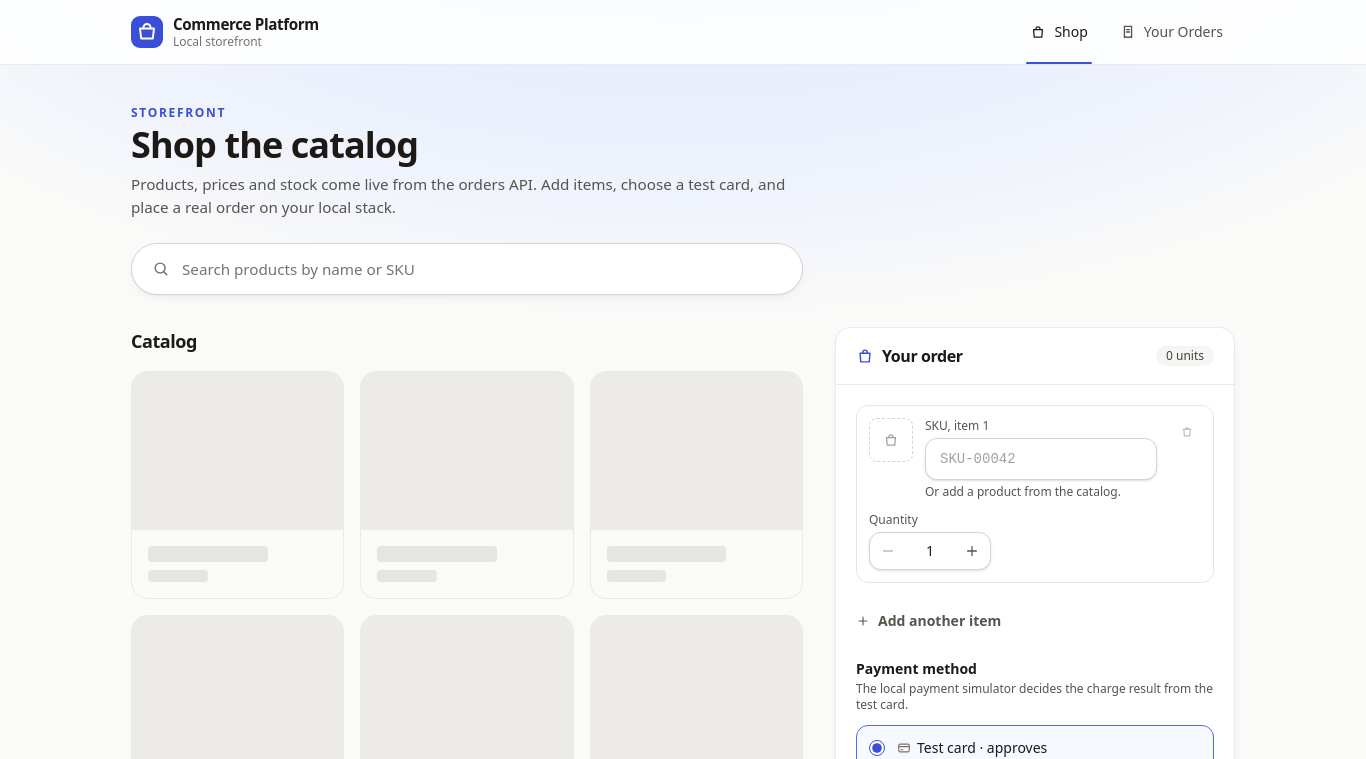
Test: product search: completeness and loading › reads every catalog page once by cursor, without duplicates, before claiming full coverage
This screenshot has width=1366, height=759.
Type "lunar" into the dropdown labelled "Search products".
click(482, 269); type("lunar")  # box [182,244,782,294]
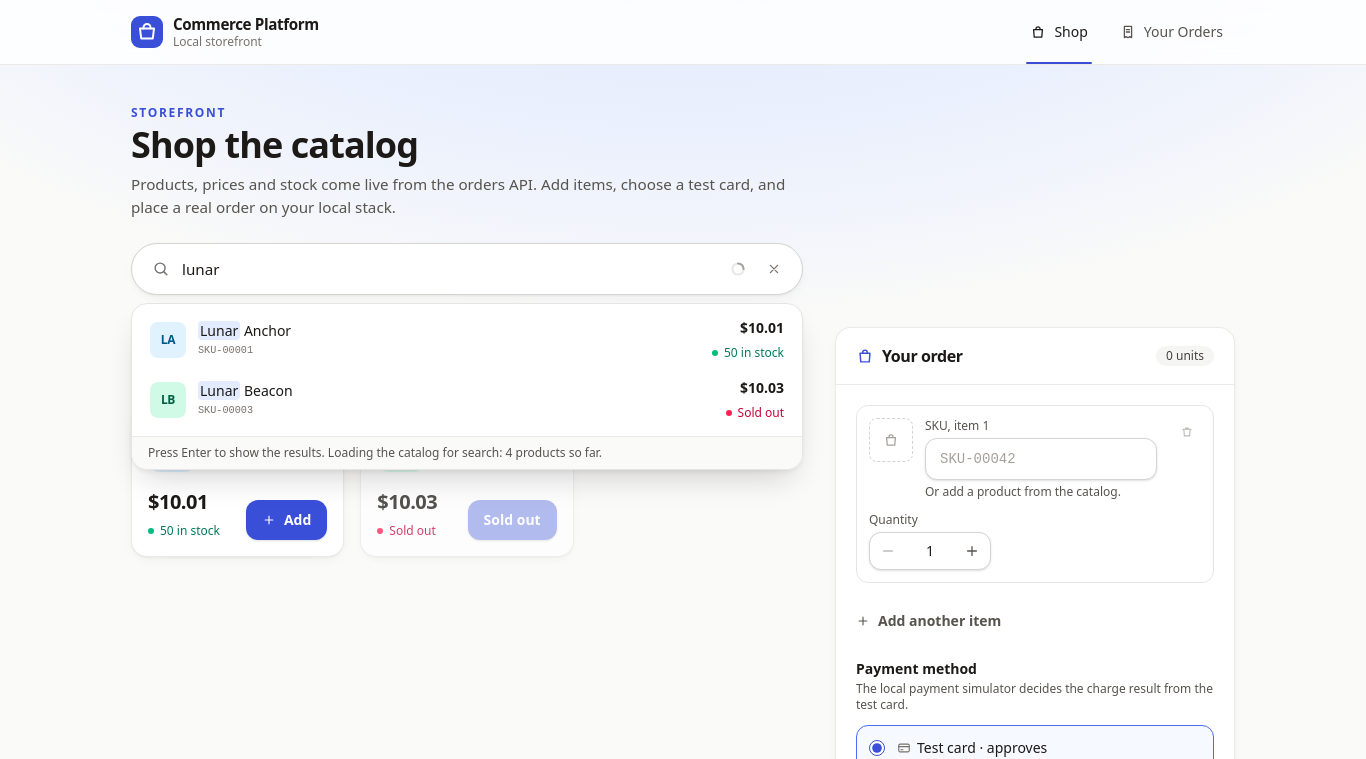
Expected: the text "Loading the catalog for search: 4 products so far." is shown, [131,371,473,390]
Replace the text in the dropdown named "Search products" with "lunar k" at (450, 269), box [182,244,718,294]
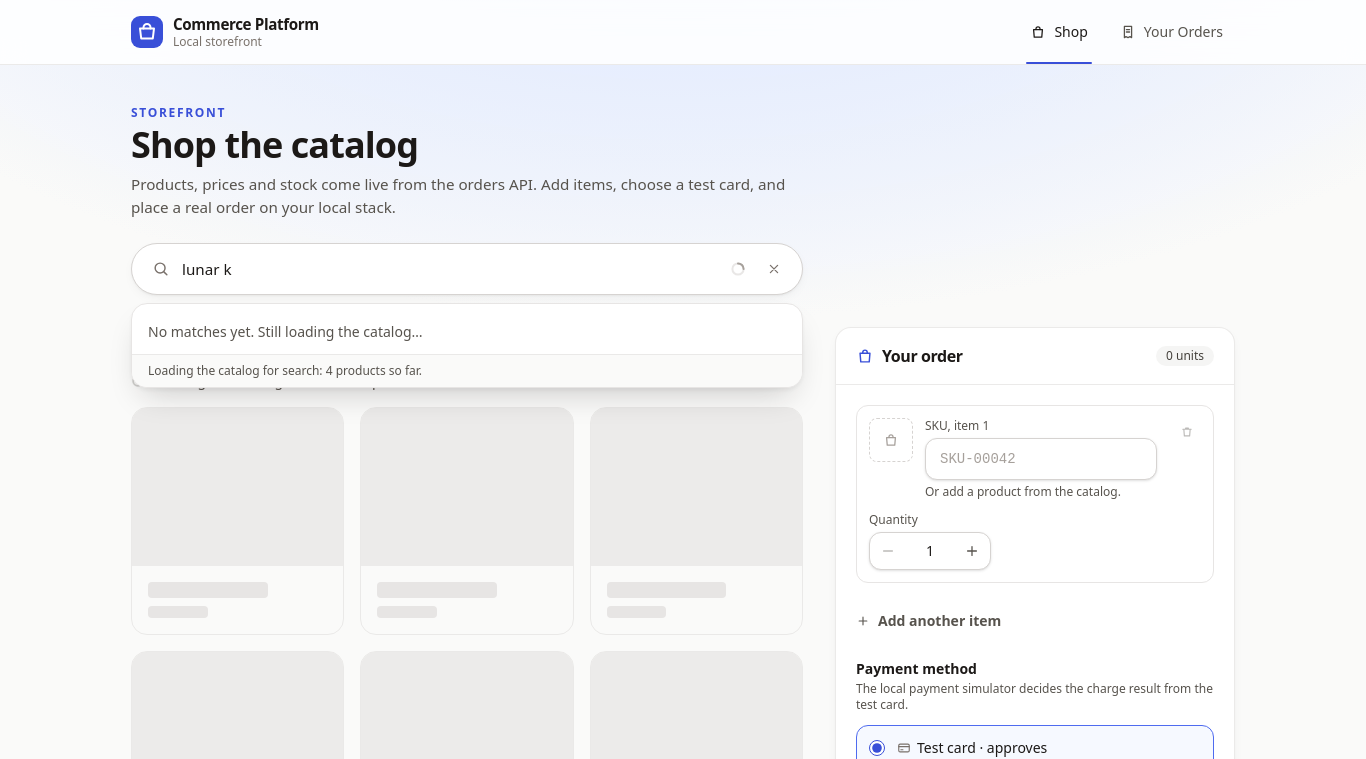
Replace the text in the dropdown named "Search products" with "lunar" at (450, 269), box [182,244,718,294]
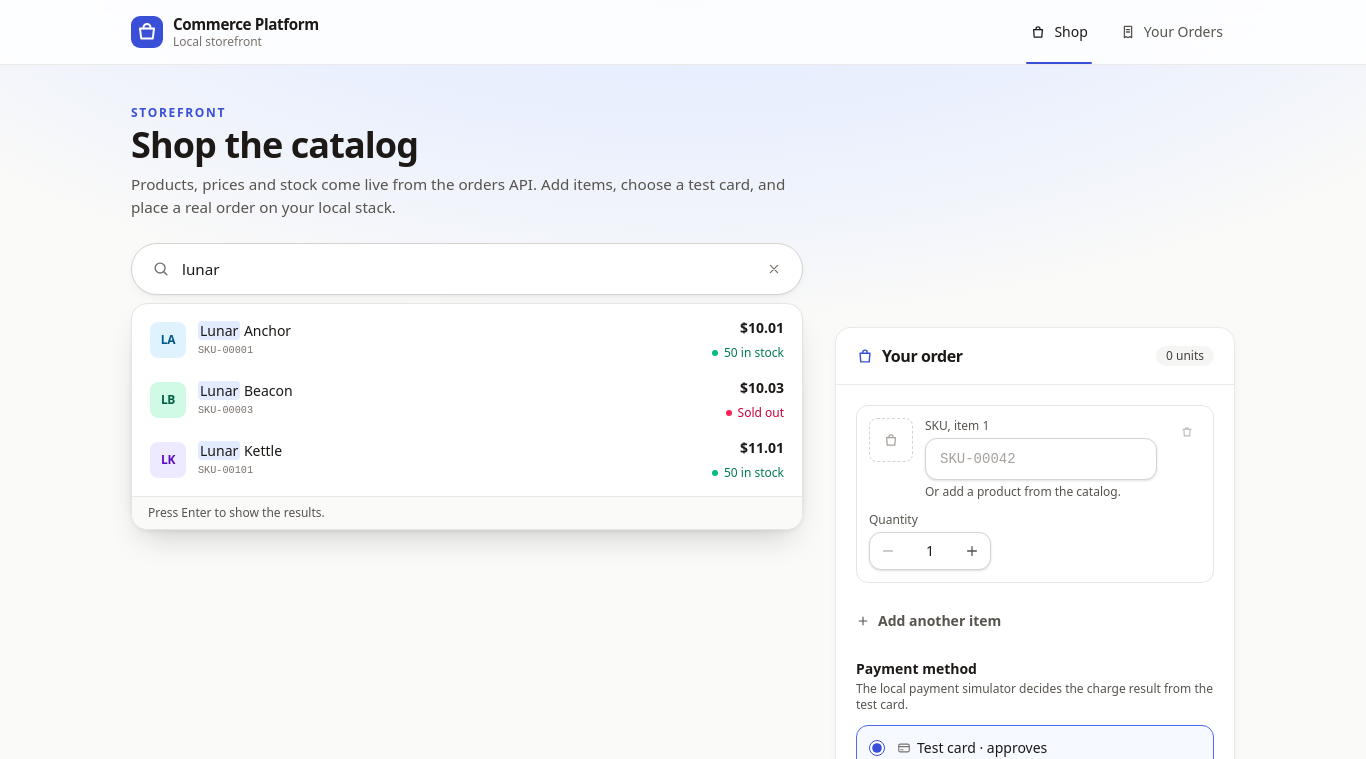
Expected: the text "Loading the catalog for search" is gone
